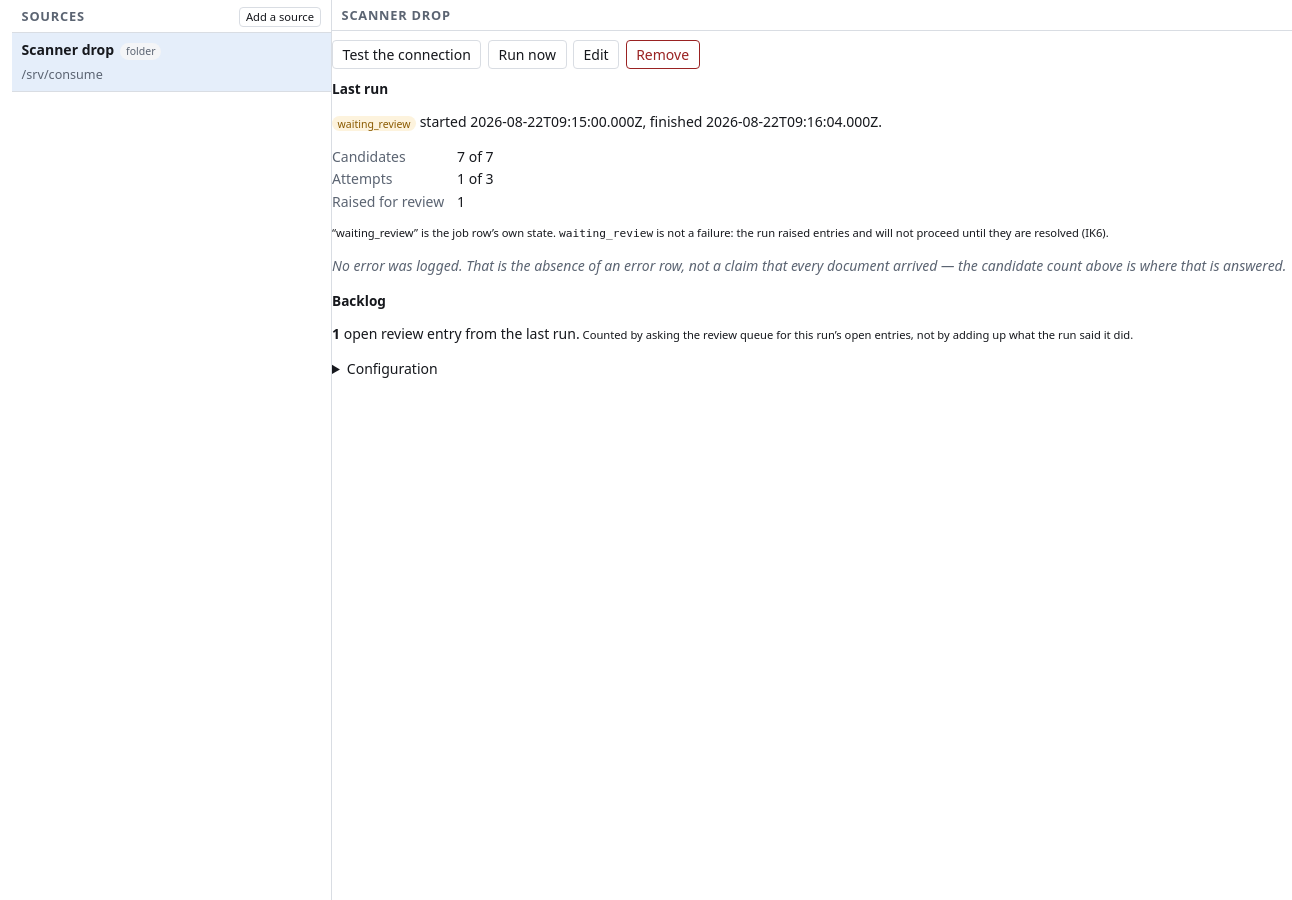
Test case: the sources screen › shows the failing checks behind a failed test rather than only a badge
Expected: the element with test id "source-detail" is shown, [332,40,1291,379]
Click the button "Test the connection".
click(407, 55)  # box [332,40,481,69]
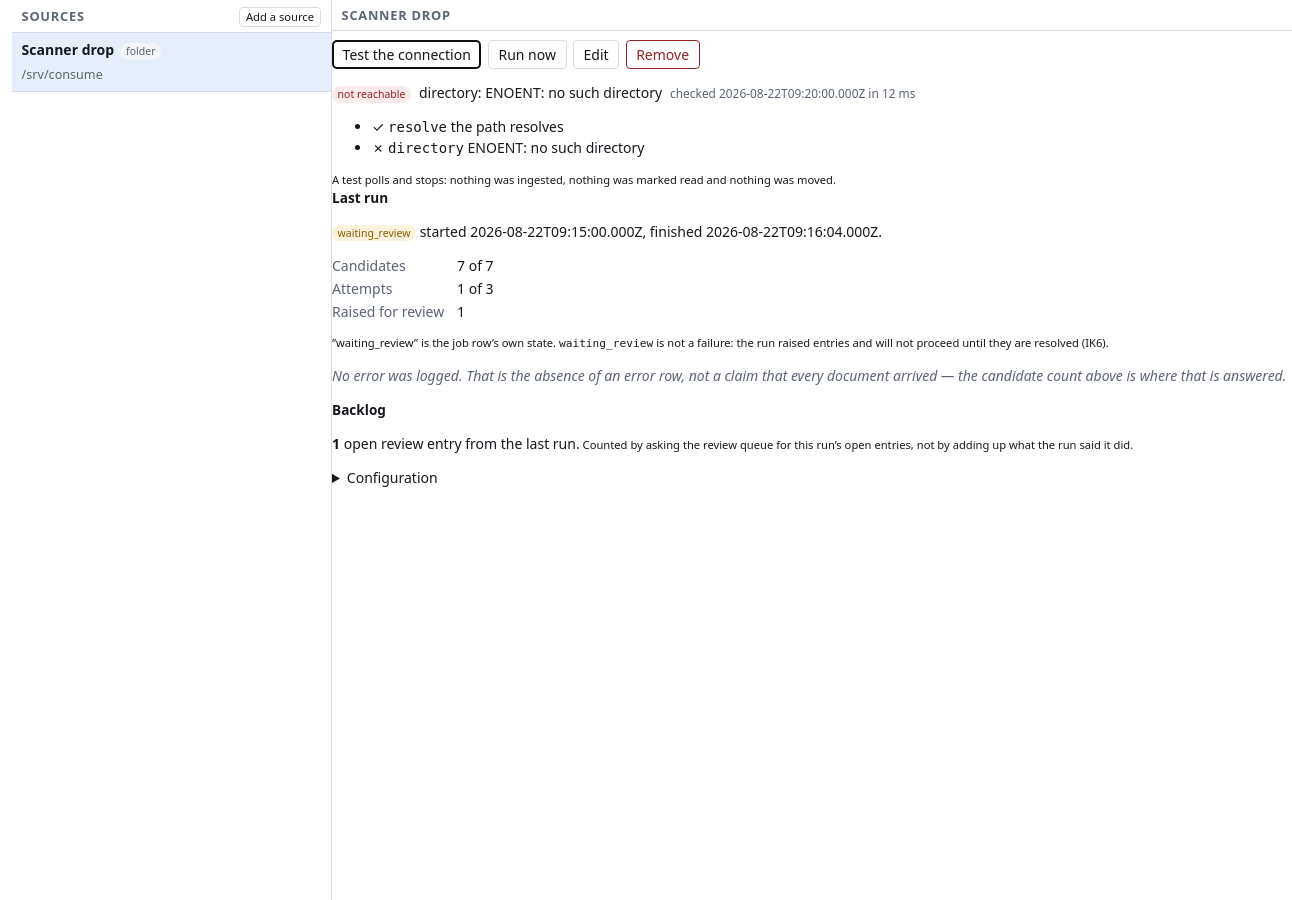
Expected: the list item "✗ directory ENOENT: no such directory" is shown, [372,138,644,157]
